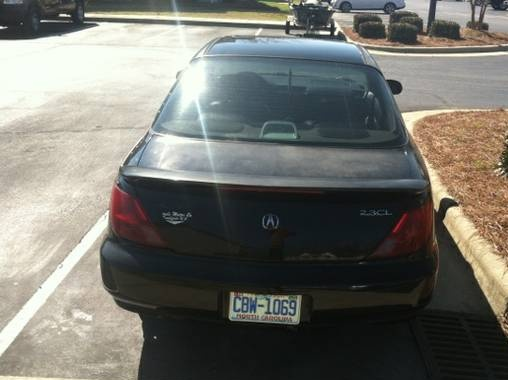acura: (97, 30, 443, 329)
